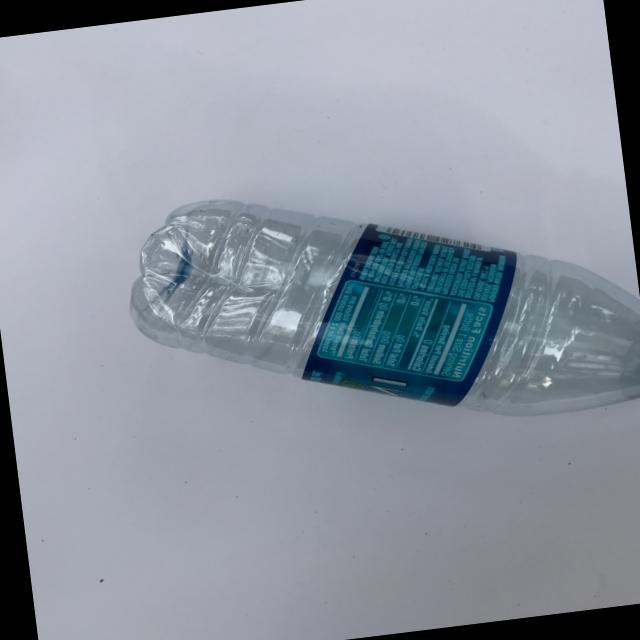Plastic: (95, 124, 640, 494)
